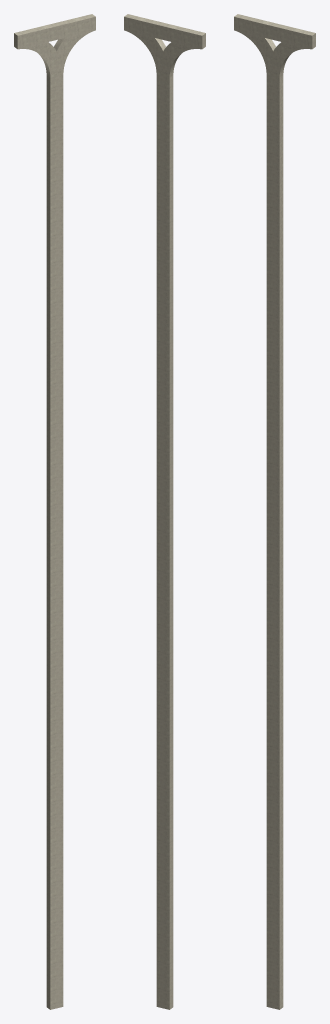
Rendered from BridgePillar4.FBX.
3 renders of one model, left to right at view 1: azimuth 30°, elevation 25°; view 2: azimuth 150°, elevation 25°; view 3: azimuth 330°, elevation 25°, orthographic.
Visible parts, largest first — view 1: BridgePillar4; view 2: BridgePillar4; view 3: BridgePillar4.
Boxes of the visible parts, x1=… form: BridgePillar4: x1=14, y1=14, x2=95, y2=1009; BridgePillar4: x1=124, y1=14, x2=205, y2=1009; BridgePillar4: x1=234, y1=14, x2=315, y2=1009.
Bounding box in the file's own units: 18 × 216 × 1.5.
